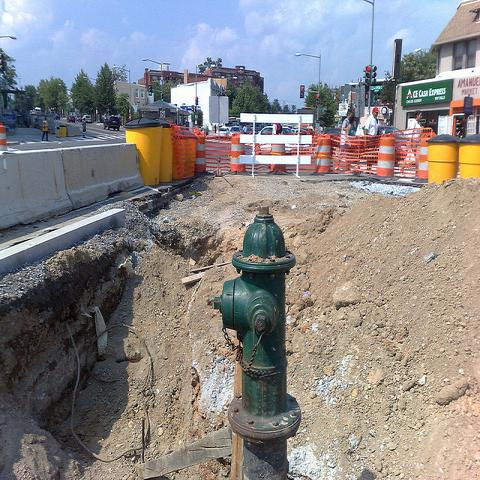car: (378, 126, 407, 166), (281, 128, 297, 154), (103, 116, 121, 131), (257, 124, 277, 136), (216, 127, 230, 134), (82, 115, 92, 124), (292, 130, 309, 135), (66, 115, 75, 123), (230, 126, 241, 132), (54, 113, 60, 120)
truck: (103, 117, 120, 132), (82, 115, 92, 123)
